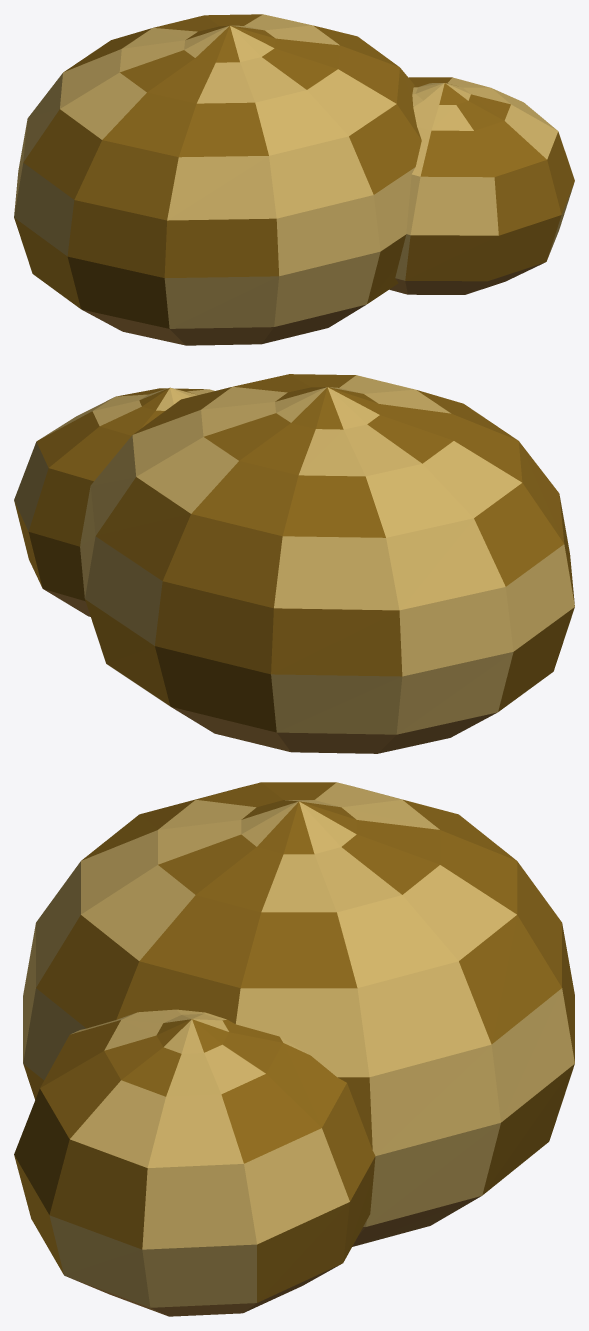
Rendered from coral_brain.gltf.
The picture shows the model from 3 angles, top to bottom: view 1: azimuth 30°, elevation 25°; view 2: azimuth 150°, elevation 25°; view 3: azimuth 270°, elevation 25°; orthographic projection. The views are drawn at different scales.
Visible parts, largest first — view 1: coral_brain; view 2: coral_brain; view 3: coral_brain.
Part boxes in pixels (left/top/right/bottom): coral_brain: left=14, top=14, right=574, bottom=345; coral_brain: left=14, top=374, right=574, bottom=753; coral_brain: left=14, top=782, right=574, bottom=1316.
Size of the model in its own units: 0.5275 by 0.2773 by 0.3885.
